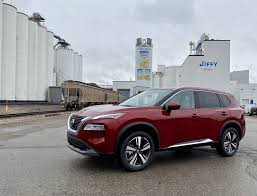Nissan: (73, 87, 245, 162)
